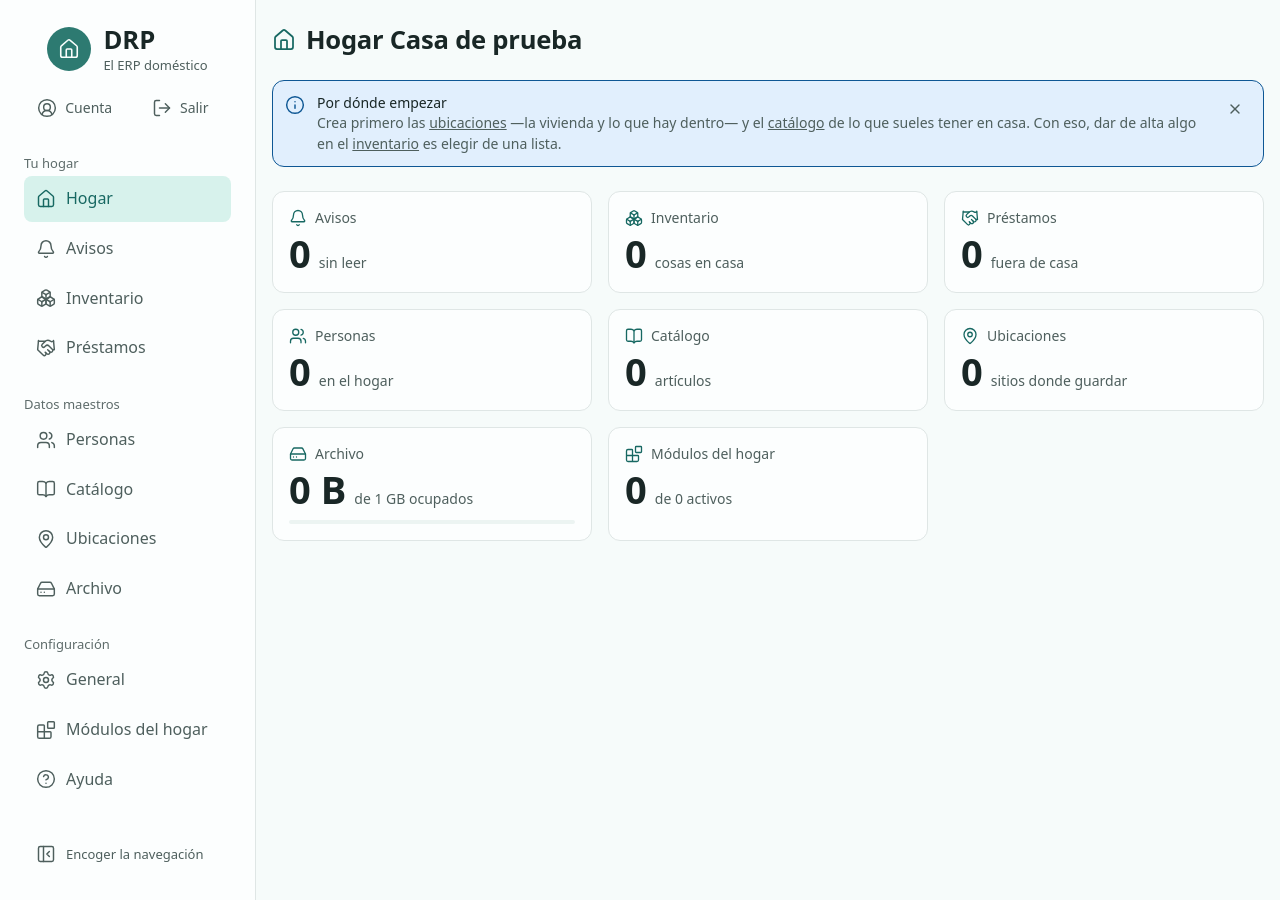
it: la columna encogida a iconos › encoger persiste la elección, conserva los nombres y se deshace
Check: the navigation bar named "Principal" is shown, box [24,154,231,802]
Click the button "Encoger la navegación".
click(128, 854)  # box [24,832,231,876]
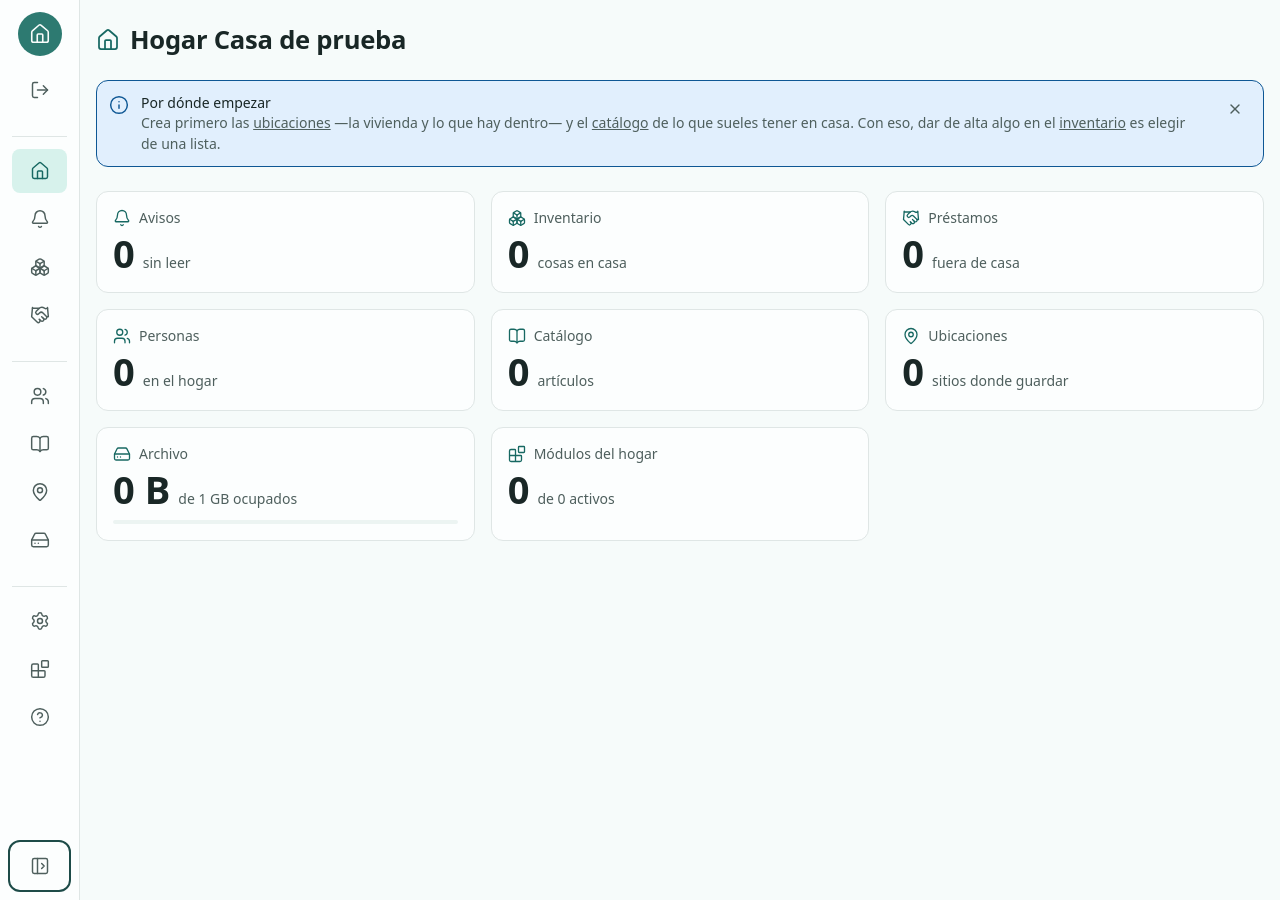
Check: the button named "Salir" is shown, box [18,68,62,112]
Check: the link "Cuenta" is gone
Click the button named "Ensanchar la navegación".
click(40, 866)  # box [12,844,67,888]
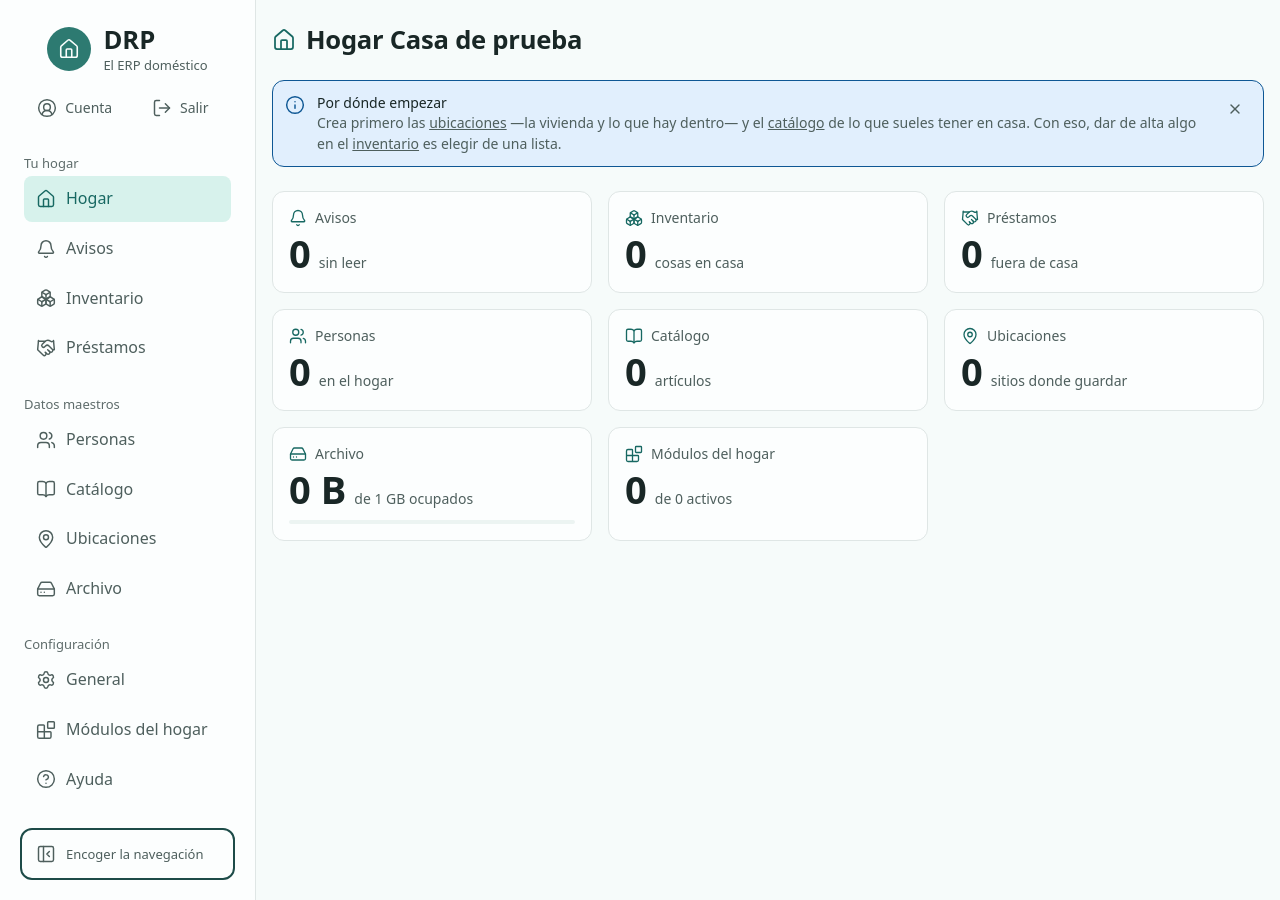
Check: the link "Cuenta" is shown, box [37,98,112,118]
